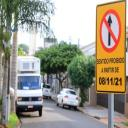NoSeguir: (99, 7, 122, 54)
